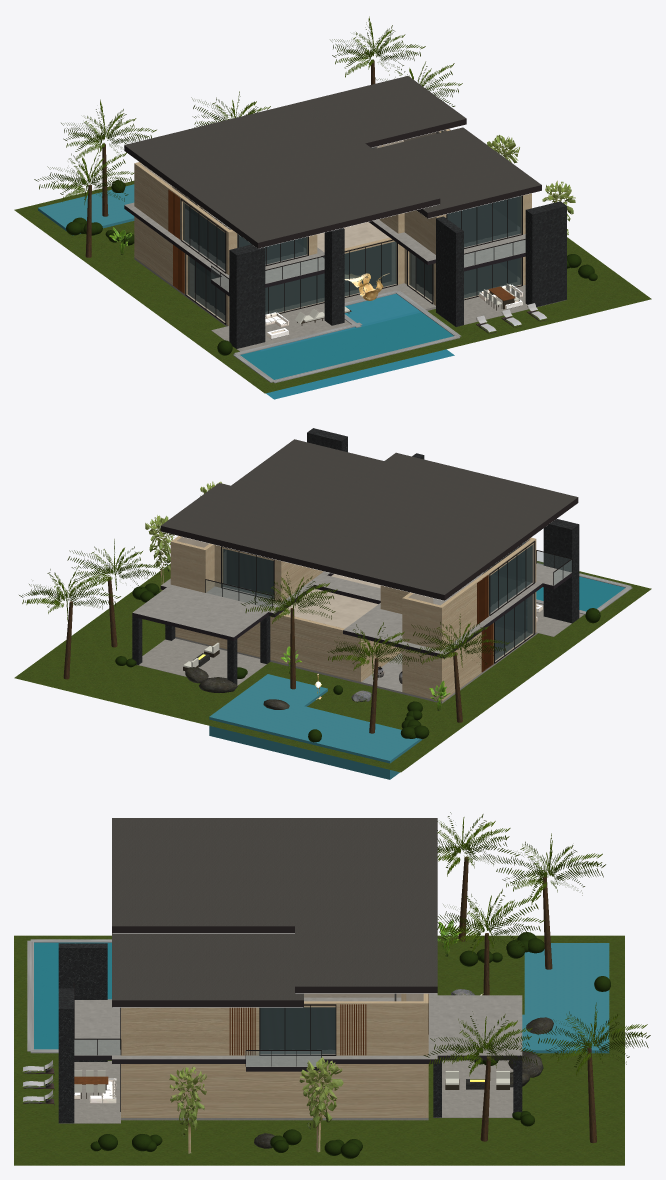
The model's file is celine.glb.
The picture shows the model from 3 angles, top to bottom: view 1: azimuth 30°, elevation 25°; view 2: azimuth 150°, elevation 25°; view 3: azimuth 270°, elevation 25°; orthographic projection. The views are drawn at different scales.
Visible parts, largest first — view 1: m_Material_16, m_Material_19, m_Material_12, m_Material_8, m_Material_10, m_Material_2, m_Material_6, m_Material_27, m_Material_14, m_Material_1, m_Material_9, m_Material_3 (+11 smaller); view 2: m_Material_16, m_Material_19, m_Material_6, m_Material_14, m_Material_3, m_Material_27, m_Material_12, m_Material_8, m_Material_10, m_Material_7, m_Material_1, m_Material_26 (+8 smaller); view 3: m_Material_16, m_Material_19, m_Material_6, m_Material_14, m_Material_27, m_Material_3, m_Material_12, m_Material_1, m_Material_25, m_Material_8, m_Material_0.007, m_Material_2 (+11 smaller).
Part boxes in pixels (left/top/right/bottom): m_Material_16: left=124, top=76, right=541, bottom=248; m_Material_19: left=14, top=180, right=651, bottom=393; m_Material_12: left=229, top=201, right=566, bottom=348; m_Material_8: left=183, top=130, right=521, bottom=321; m_Material_10: left=190, top=132, right=516, bottom=314; m_Material_2: left=240, top=293, right=453, bottom=379; m_Material_6: left=134, top=129, right=531, bottom=325; m_Material_27: left=34, top=16, right=462, bottom=204; m_Material_14: left=124, top=202, right=525, bottom=295; m_Material_1: left=211, top=283, right=565, bottom=351; m_Material_9: left=180, top=129, right=525, bottom=324; m_Material_3: left=38, top=184, right=134, bottom=235; m_Material_16: left=160, top=439, right=578, bottom=600; m_Material_19: left=14, top=561, right=651, bottom=772; m_Material_6: left=170, top=536, right=536, bottom=701; m_Material_14: left=132, top=551, right=571, bottom=658; m_Material_3: left=209, top=674, right=422, bottom=779; m_Material_27: left=19, top=539, right=509, bottom=679; m_Material_12: left=132, top=428, right=579, bottom=684; m_Material_8: left=222, top=542, right=532, bottom=660; m_Material_10: left=224, top=542, right=525, bottom=653; m_Material_7: left=177, top=537, right=534, bottom=633; m_Material_1: left=136, top=603, right=583, bottom=685; m_Material_26: left=63, top=577, right=462, bottom=733; m_Material_16: left=112, top=818, right=437, bottom=1007; m_Material_19: left=14, top=935, right=624, bottom=1165; m_Material_6: left=121, top=993, right=428, bottom=1117; m_Material_14: left=74, top=993, right=522, bottom=1071; m_Material_27: left=423, top=812, right=650, bottom=1076; m_Material_3: left=522, top=943, right=609, bottom=1053; m_Material_12: left=58, top=943, right=522, bottom=1123; m_Material_1: left=59, top=1060, right=513, bottom=1123; m_Material_25: left=90, top=932, right=610, bottom=1158; m_Material_8: left=260, top=1007, right=335, bottom=1053; m_Material_0.007: left=169, top=1057, right=343, bottom=1153; m_Material_2: left=34, top=942, right=111, bottom=1049.
Size of the model in its own units: 35.36 by 10.3 by 37.65.
Materials: 33 (33 with a texture image).
